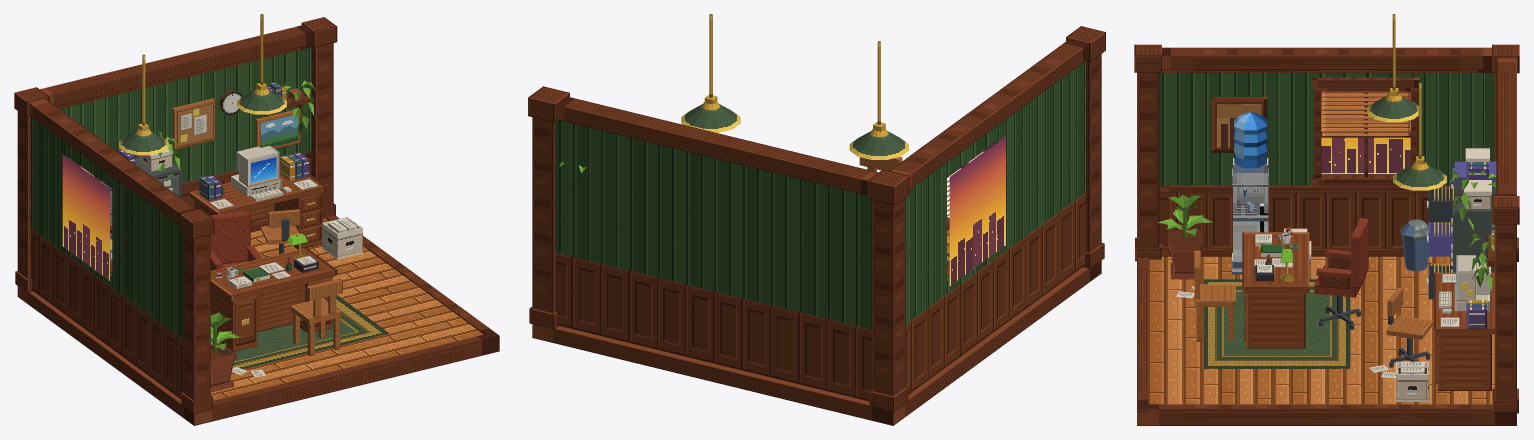
File: retro_office.glb
3 renders of one model, left to right at view 1: azimuth 30°, elevation 25°; view 2: azimuth 150°, elevation 25°; view 3: azimuth 270°, elevation 25°, orthographic. The views are drawn at different scales.
Parts seen in each view (by area): view 1: RoomArchitecture, ExecutiveDesk, ComputerWorkstation, DecorAndPlants, SunsetBackdrop, PlantAndBoxes, PendantLamps, VisitorChair, ExecutiveChair, ComputerSwivelChair, Cab_Slate; view 2: RoomArchitecture, SunsetBackdrop, PendantLamps; view 3: RoomArchitecture, ExecutiveDesk, ComputerWorkstation, WindowAndBlinds, DecorAndPlants, WaterCooler, PlantAndBoxes, SunsetBackdrop, ExecutiveChair, PendantLamps, Cab_Slate, VisitorChair (+4 smaller).
Part boxes in pixels (x1,y1,x2,y2): RoomArchitecture: (14, 17, 499, 425); ExecutiveDesk: (210, 233, 337, 351); ComputerWorkstation: (189, 145, 327, 249); DecorAndPlants: (81, 80, 315, 376); SunsetBackdrop: (62, 154, 109, 280); PlantAndBoxes: (210, 217, 362, 392); PendantLamps: (118, 14, 286, 155); VisitorChair: (290, 278, 342, 356); ExecutiveChair: (210, 210, 262, 270); ComputerSwivelChair: (261, 209, 300, 257); Cab_Slate: (135, 157, 181, 197); RoomArchitecture: (528, 26, 1105, 425); SunsetBackdrop: (949, 136, 1005, 285); PendantLamps: (681, 14, 908, 159); RoomArchitecture: (1134, 44, 1519, 425); ExecutiveDesk: (1242, 232, 1309, 348); ComputerWorkstation: (1434, 255, 1494, 390); WindowAndBlinds: (1312, 77, 1419, 186); DecorAndPlants: (1176, 97, 1518, 378); WaterCooler: (1232, 112, 1268, 274); PlantAndBoxes: (1158, 195, 1429, 401); SunsetBackdrop: (1321, 91, 1410, 173); ExecutiveChair: (1314, 218, 1368, 329); PendantLamps: (1367, 14, 1446, 190); Cab_Slate: (1451, 195, 1495, 272); VisitorChair: (1194, 250, 1235, 341).
Size of the model in its own units: 4.14 by 3.4 by 4.14.
Materials: 7 (7 with a texture image).
